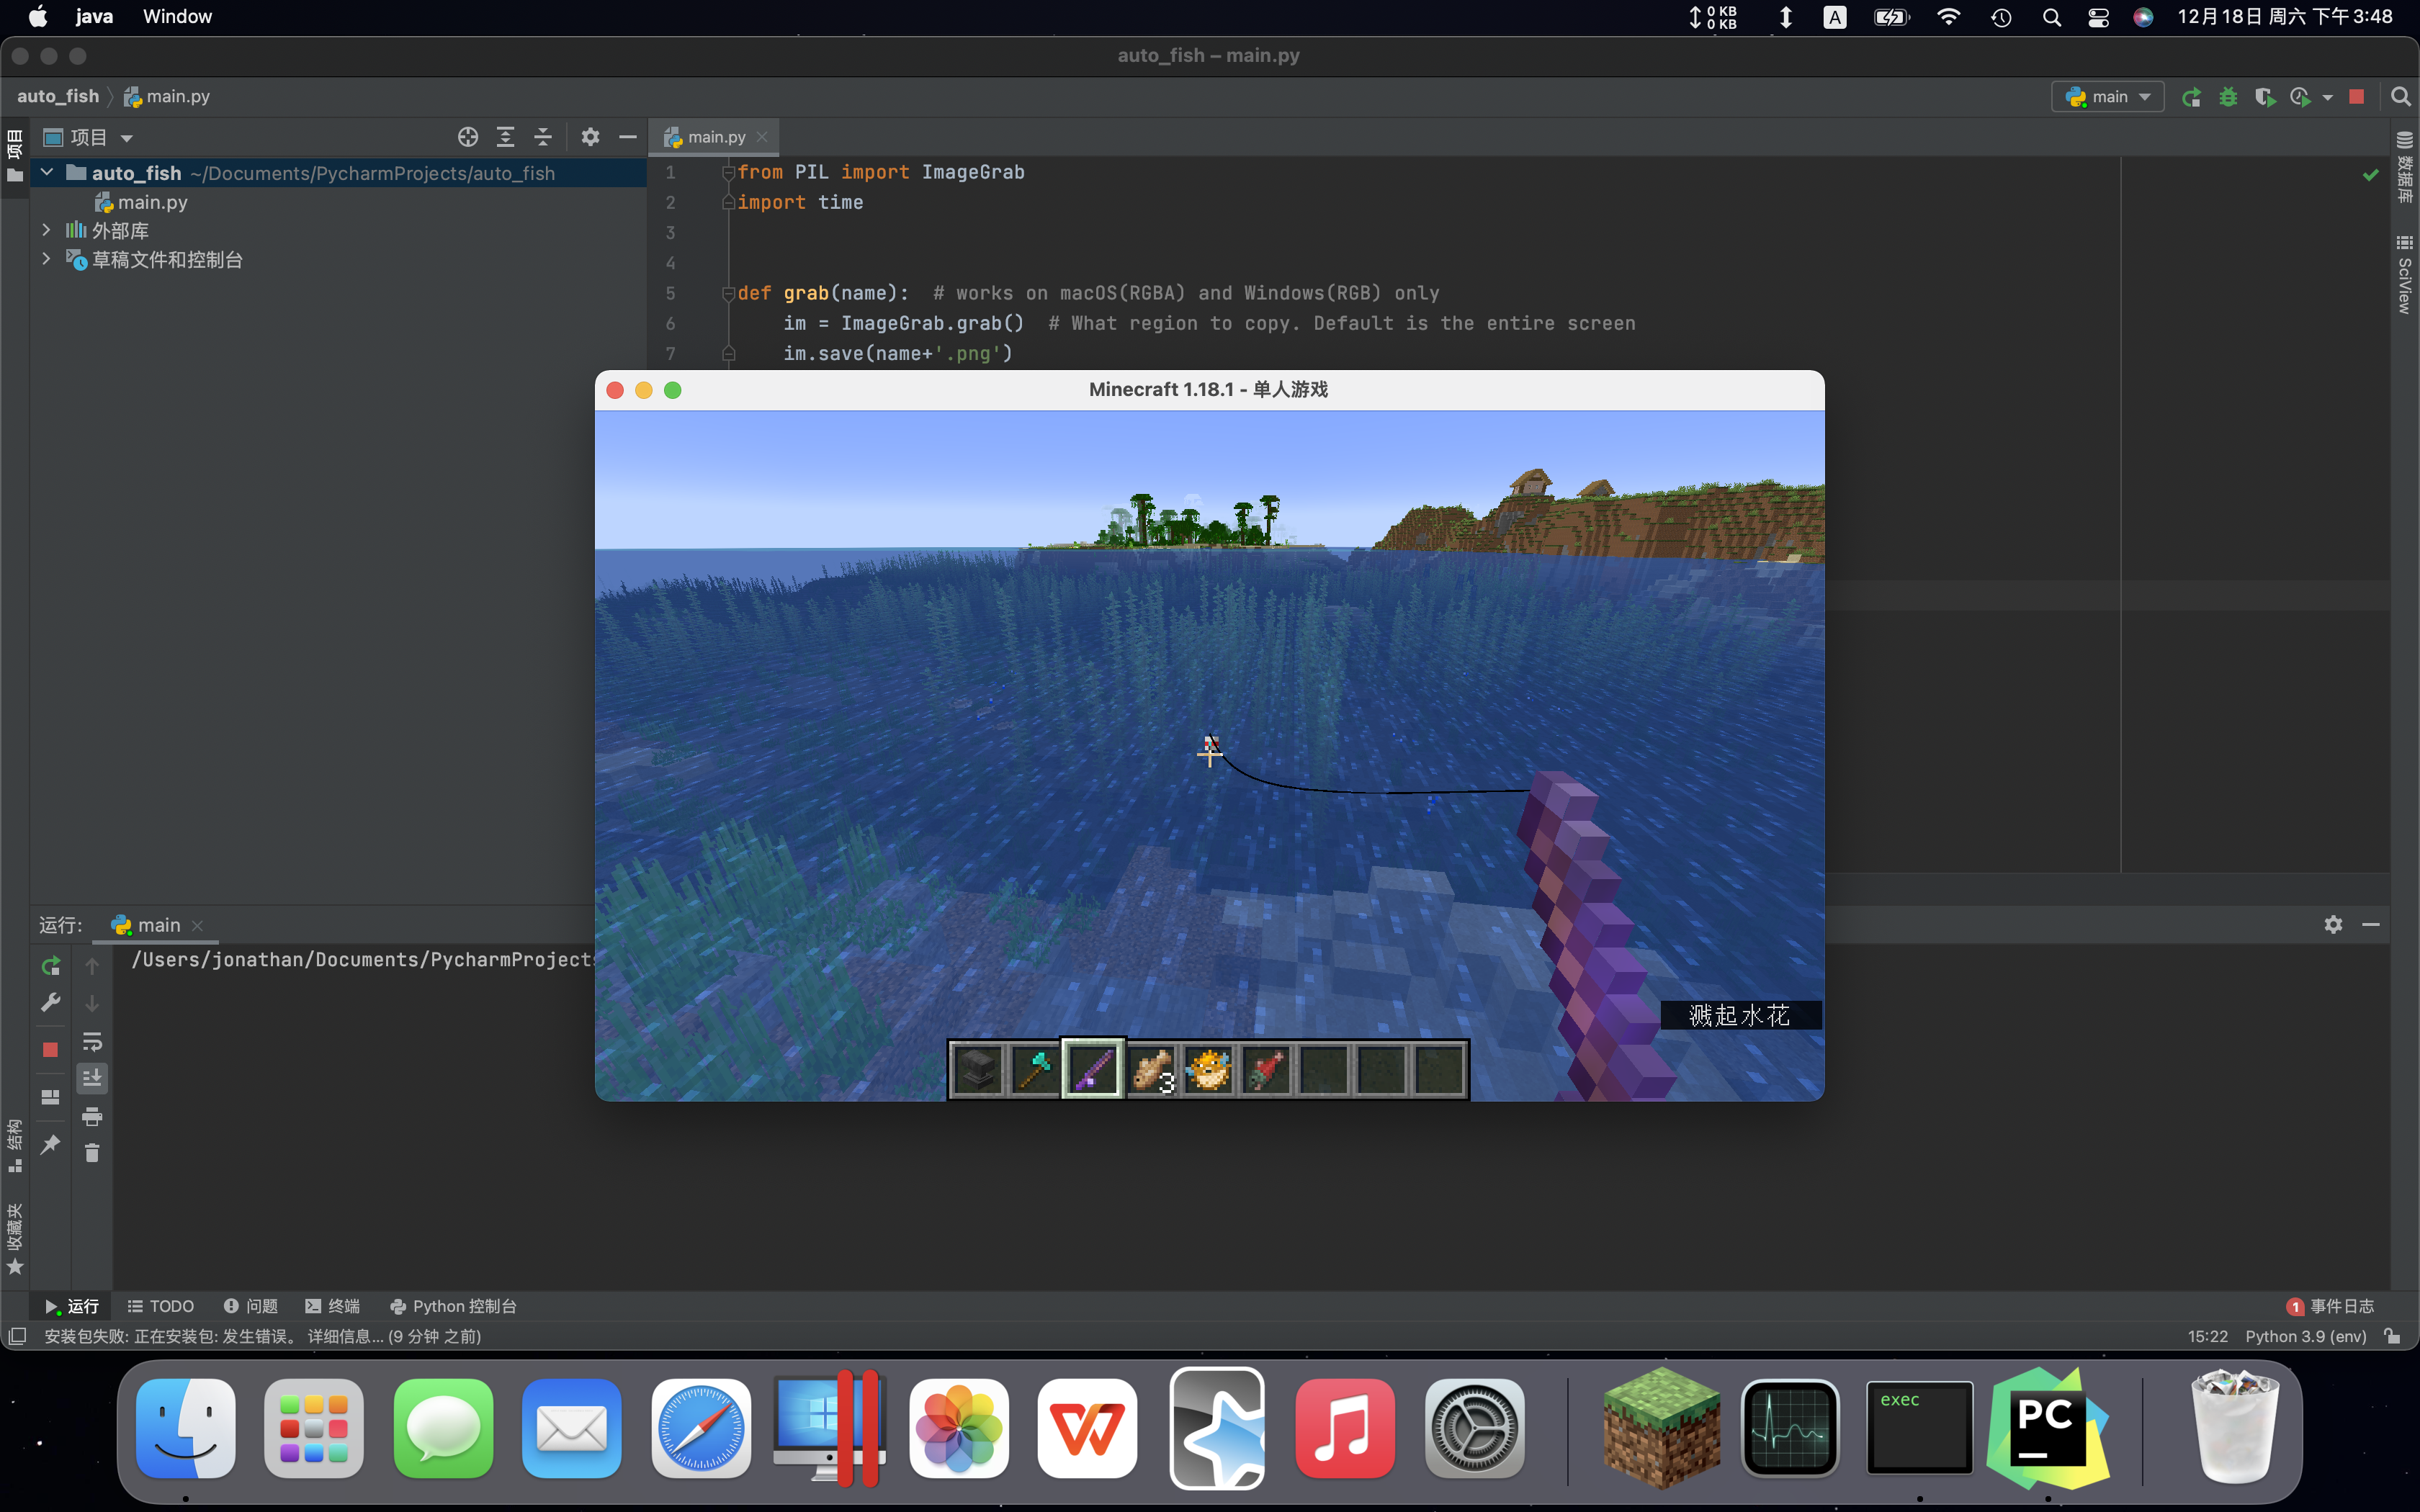inf: (1660, 1000, 1822, 1031)
